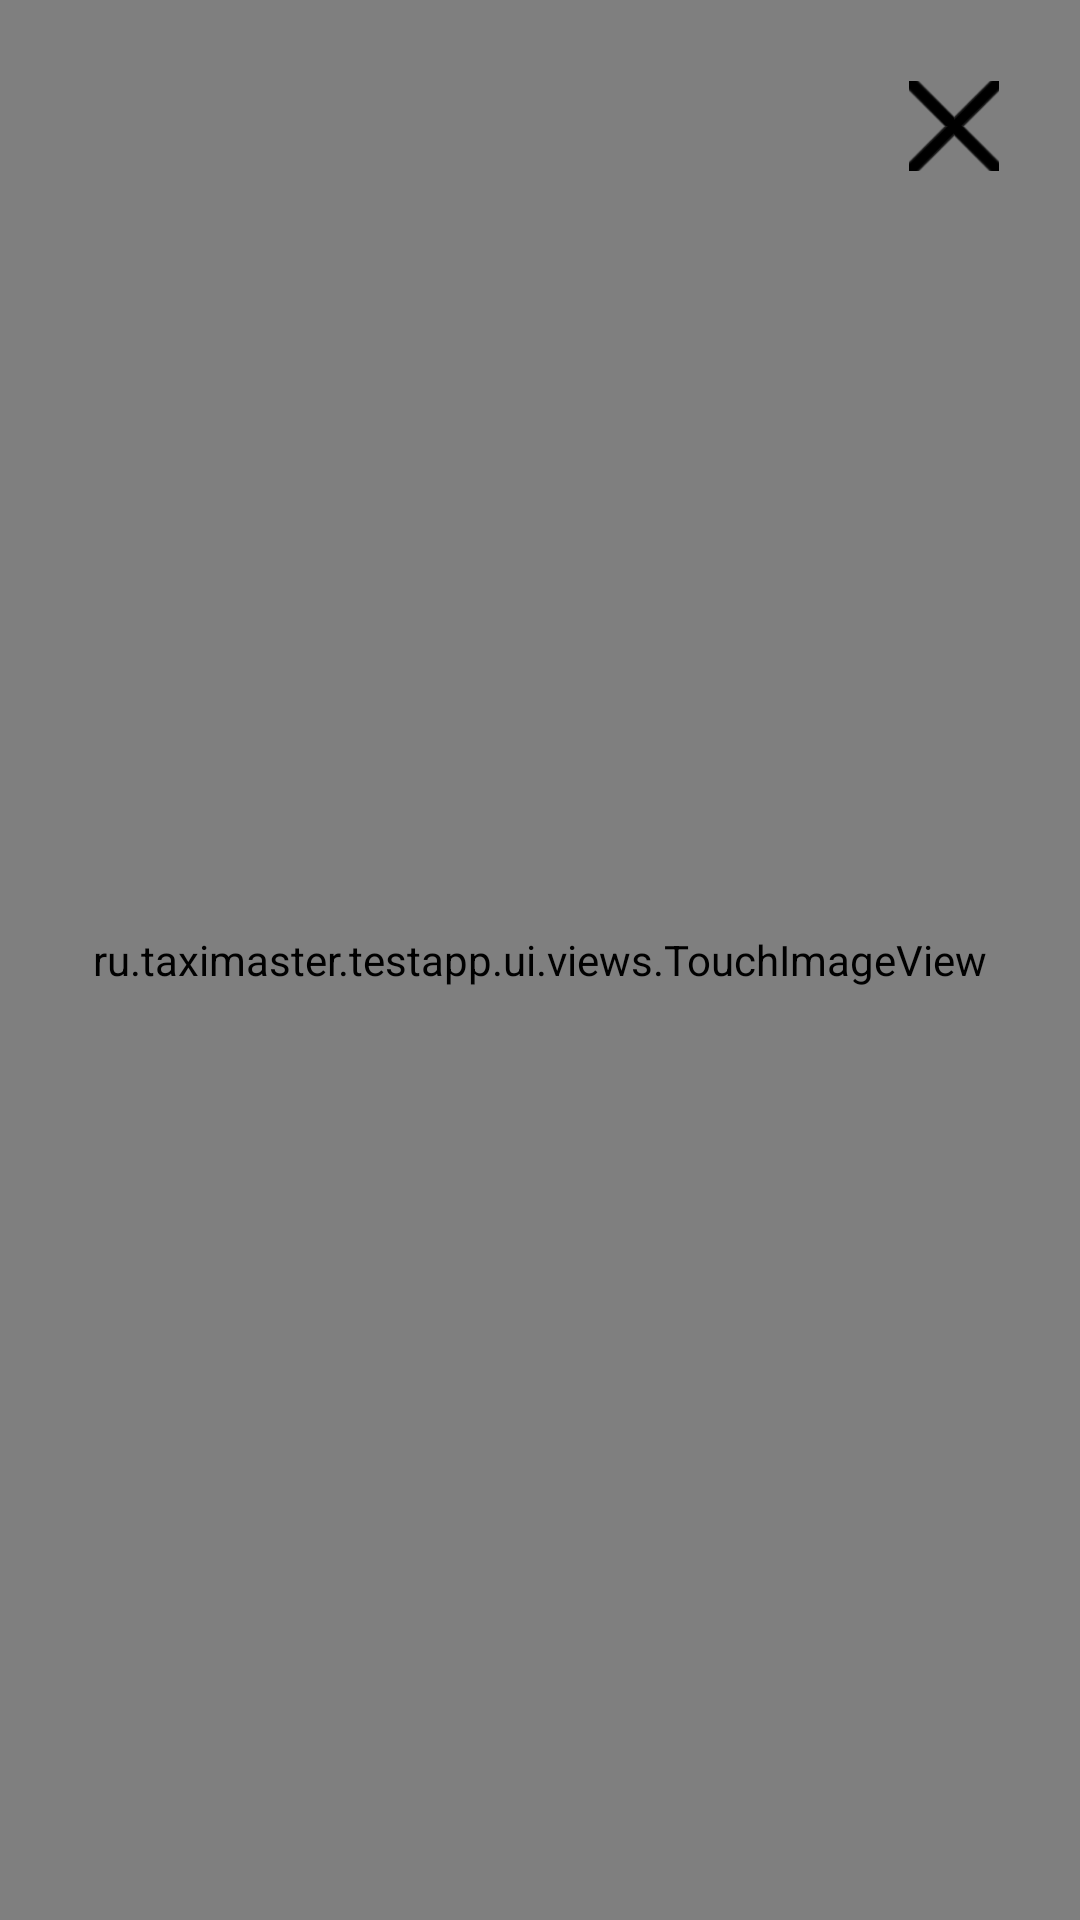

Locate icon controls on the screen. Image size 1080 × 1920, boxes as rect(x1, y1, x2, y2).
close: rect(909, 81, 999, 171)
